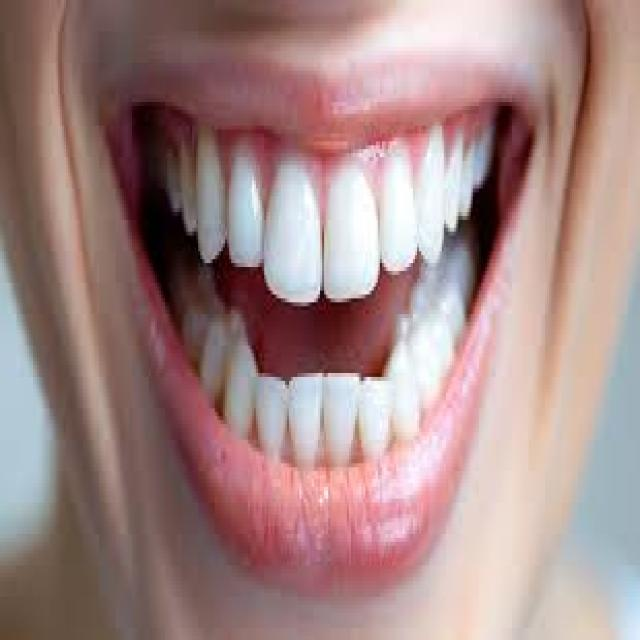tooth: (264, 169, 326, 310), (174, 263, 232, 393), (326, 180, 380, 298), (442, 130, 502, 223), (413, 251, 487, 326), (376, 165, 419, 279), (405, 314, 460, 401), (411, 142, 452, 256), (227, 153, 262, 275), (196, 122, 221, 267), (289, 373, 324, 463), (328, 365, 357, 463), (390, 349, 421, 440), (254, 373, 285, 455), (223, 357, 256, 432), (362, 381, 392, 459), (163, 134, 180, 212), (184, 145, 196, 236)
